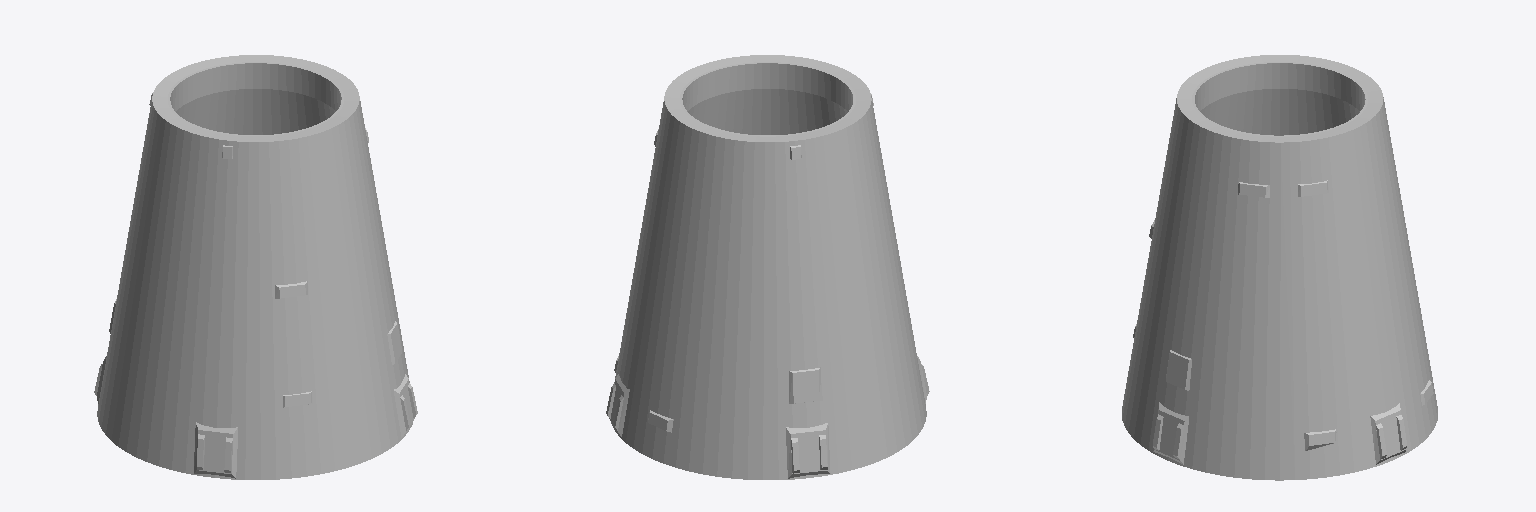
File: lem_shroud.obj
The picture shows the model from 3 angles: view 1: azimuth 30°, elevation 25°; view 2: azimuth 150°, elevation 25°; view 3: azimuth 270°, elevation 25°; orthographic projection.
Visible parts, largest first — view 1: lem_shroud; view 2: lem_shroud; view 3: lem_shroud.
Part boxes in pixels (x1,y1,x2,y2): lem_shroud: (94,55,417,479); lem_shroud: (606,55,929,479); lem_shroud: (1122,55,1437,480).
Size of the model in its own units: 58.31 by 63.68 by 58.09.